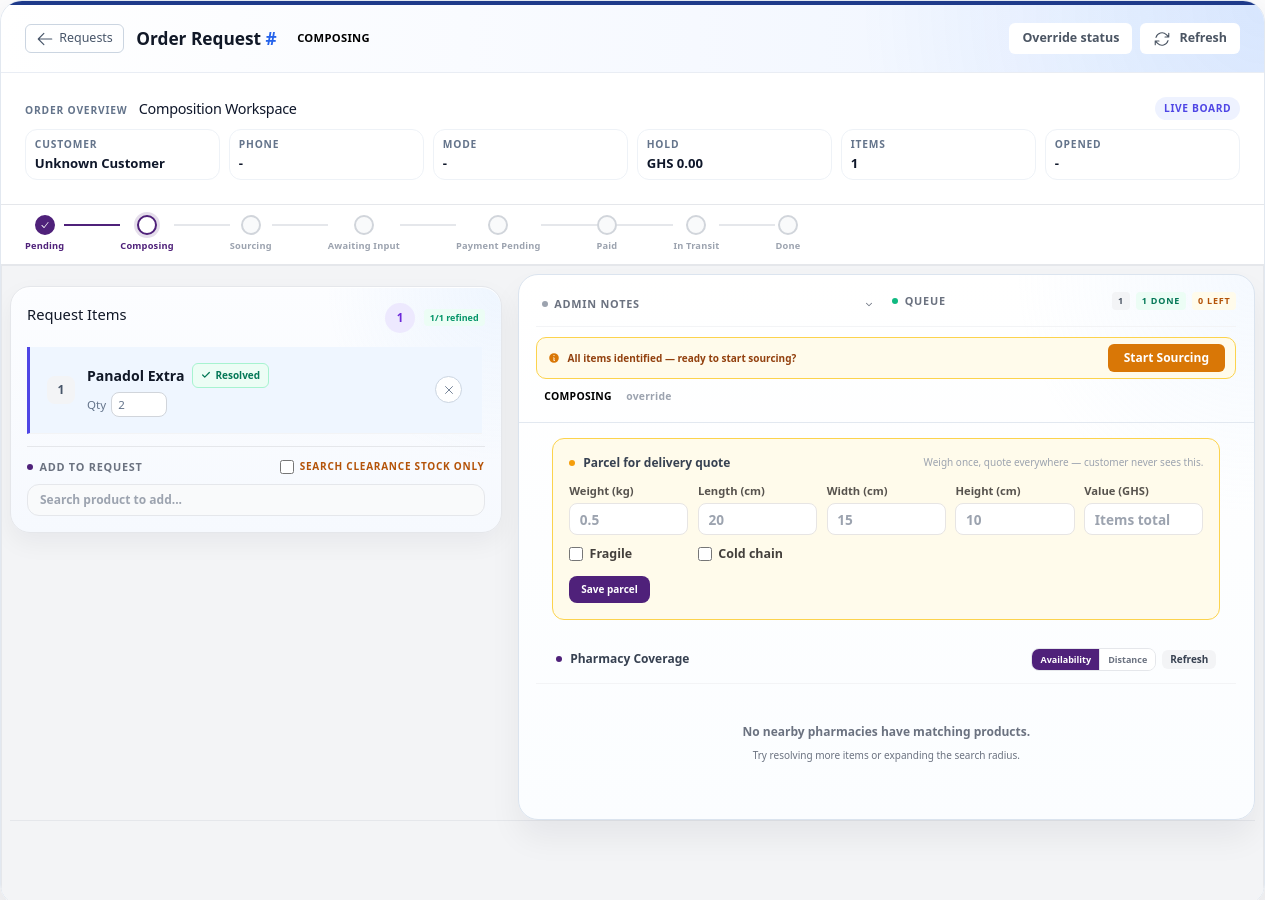
Test case: messages › keeps a newer message on screen for its full time when an older one expires
The width and height of the screenshot is (1280, 900).
Click the button "Admin Notes": (597,304) [536,292,880,316]
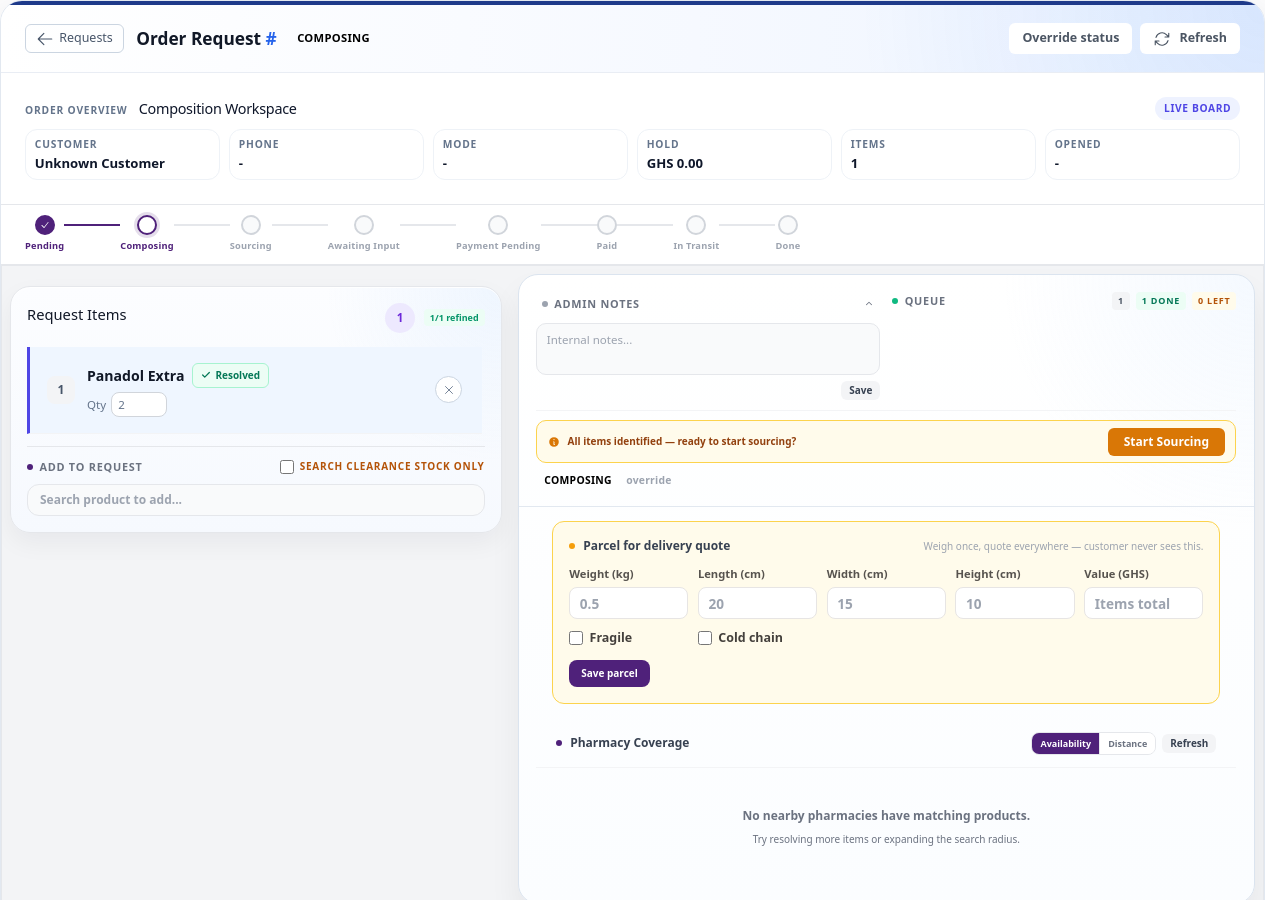
Click the button "Save": (861,391) [841,381,880,400]
Wait 3000 ms
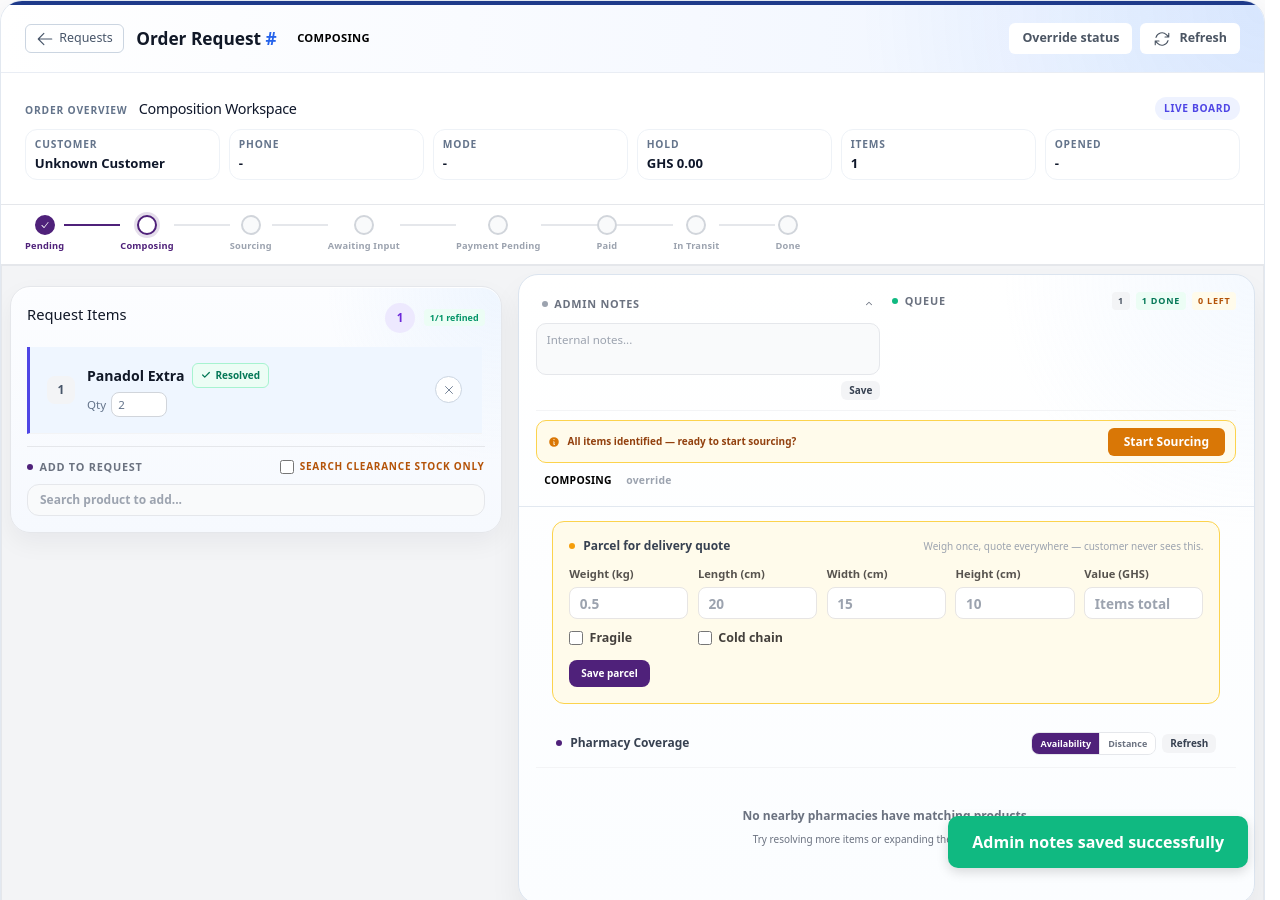
expect the text "Admin notes saved successfully" is shown: met, box [948,816,1248,868]
Click the button "Save": (861,391) [841,381,880,400]
Wait 2000 ms
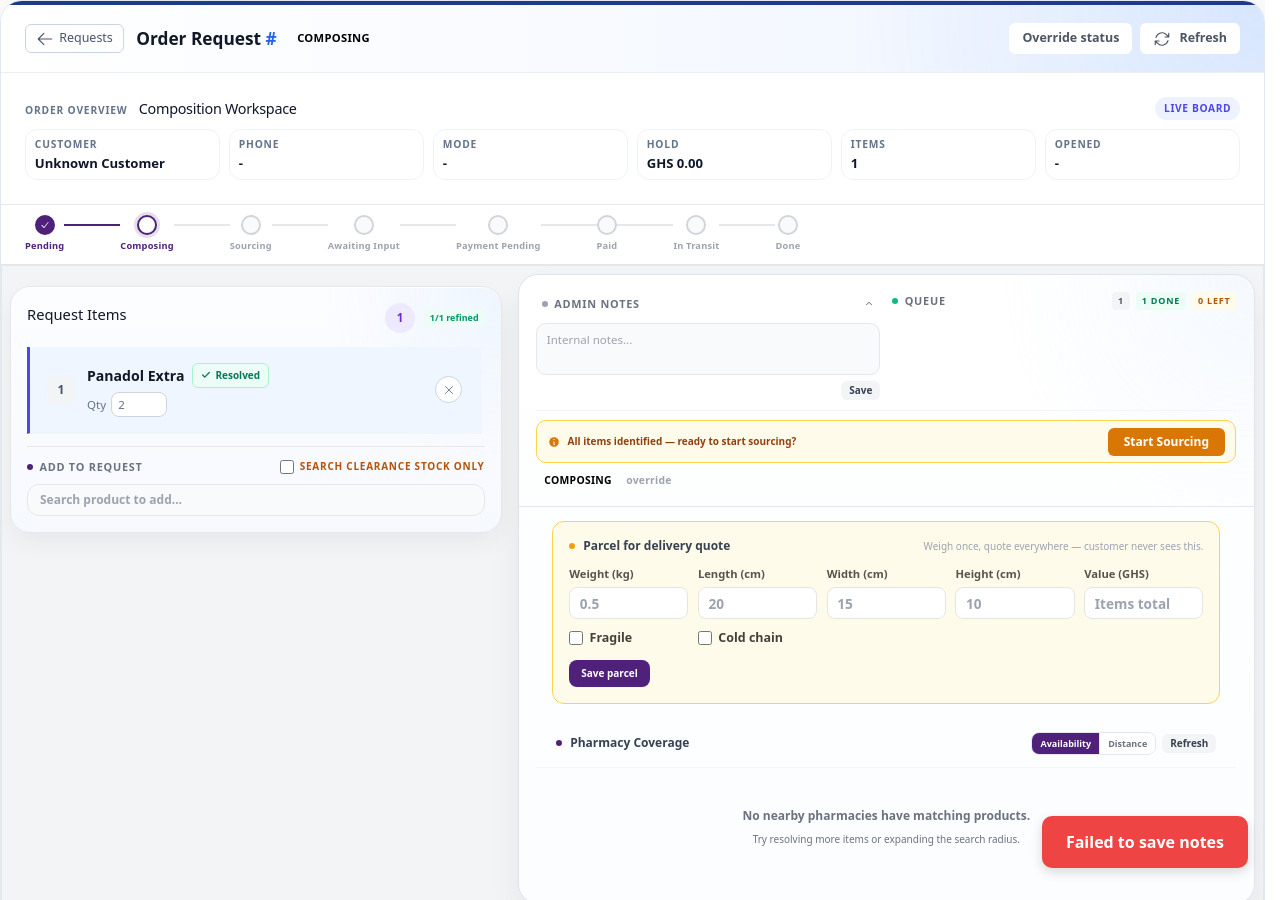
expect the text "Failed to save notes" is shown: met, box [1042,816,1248,868]
